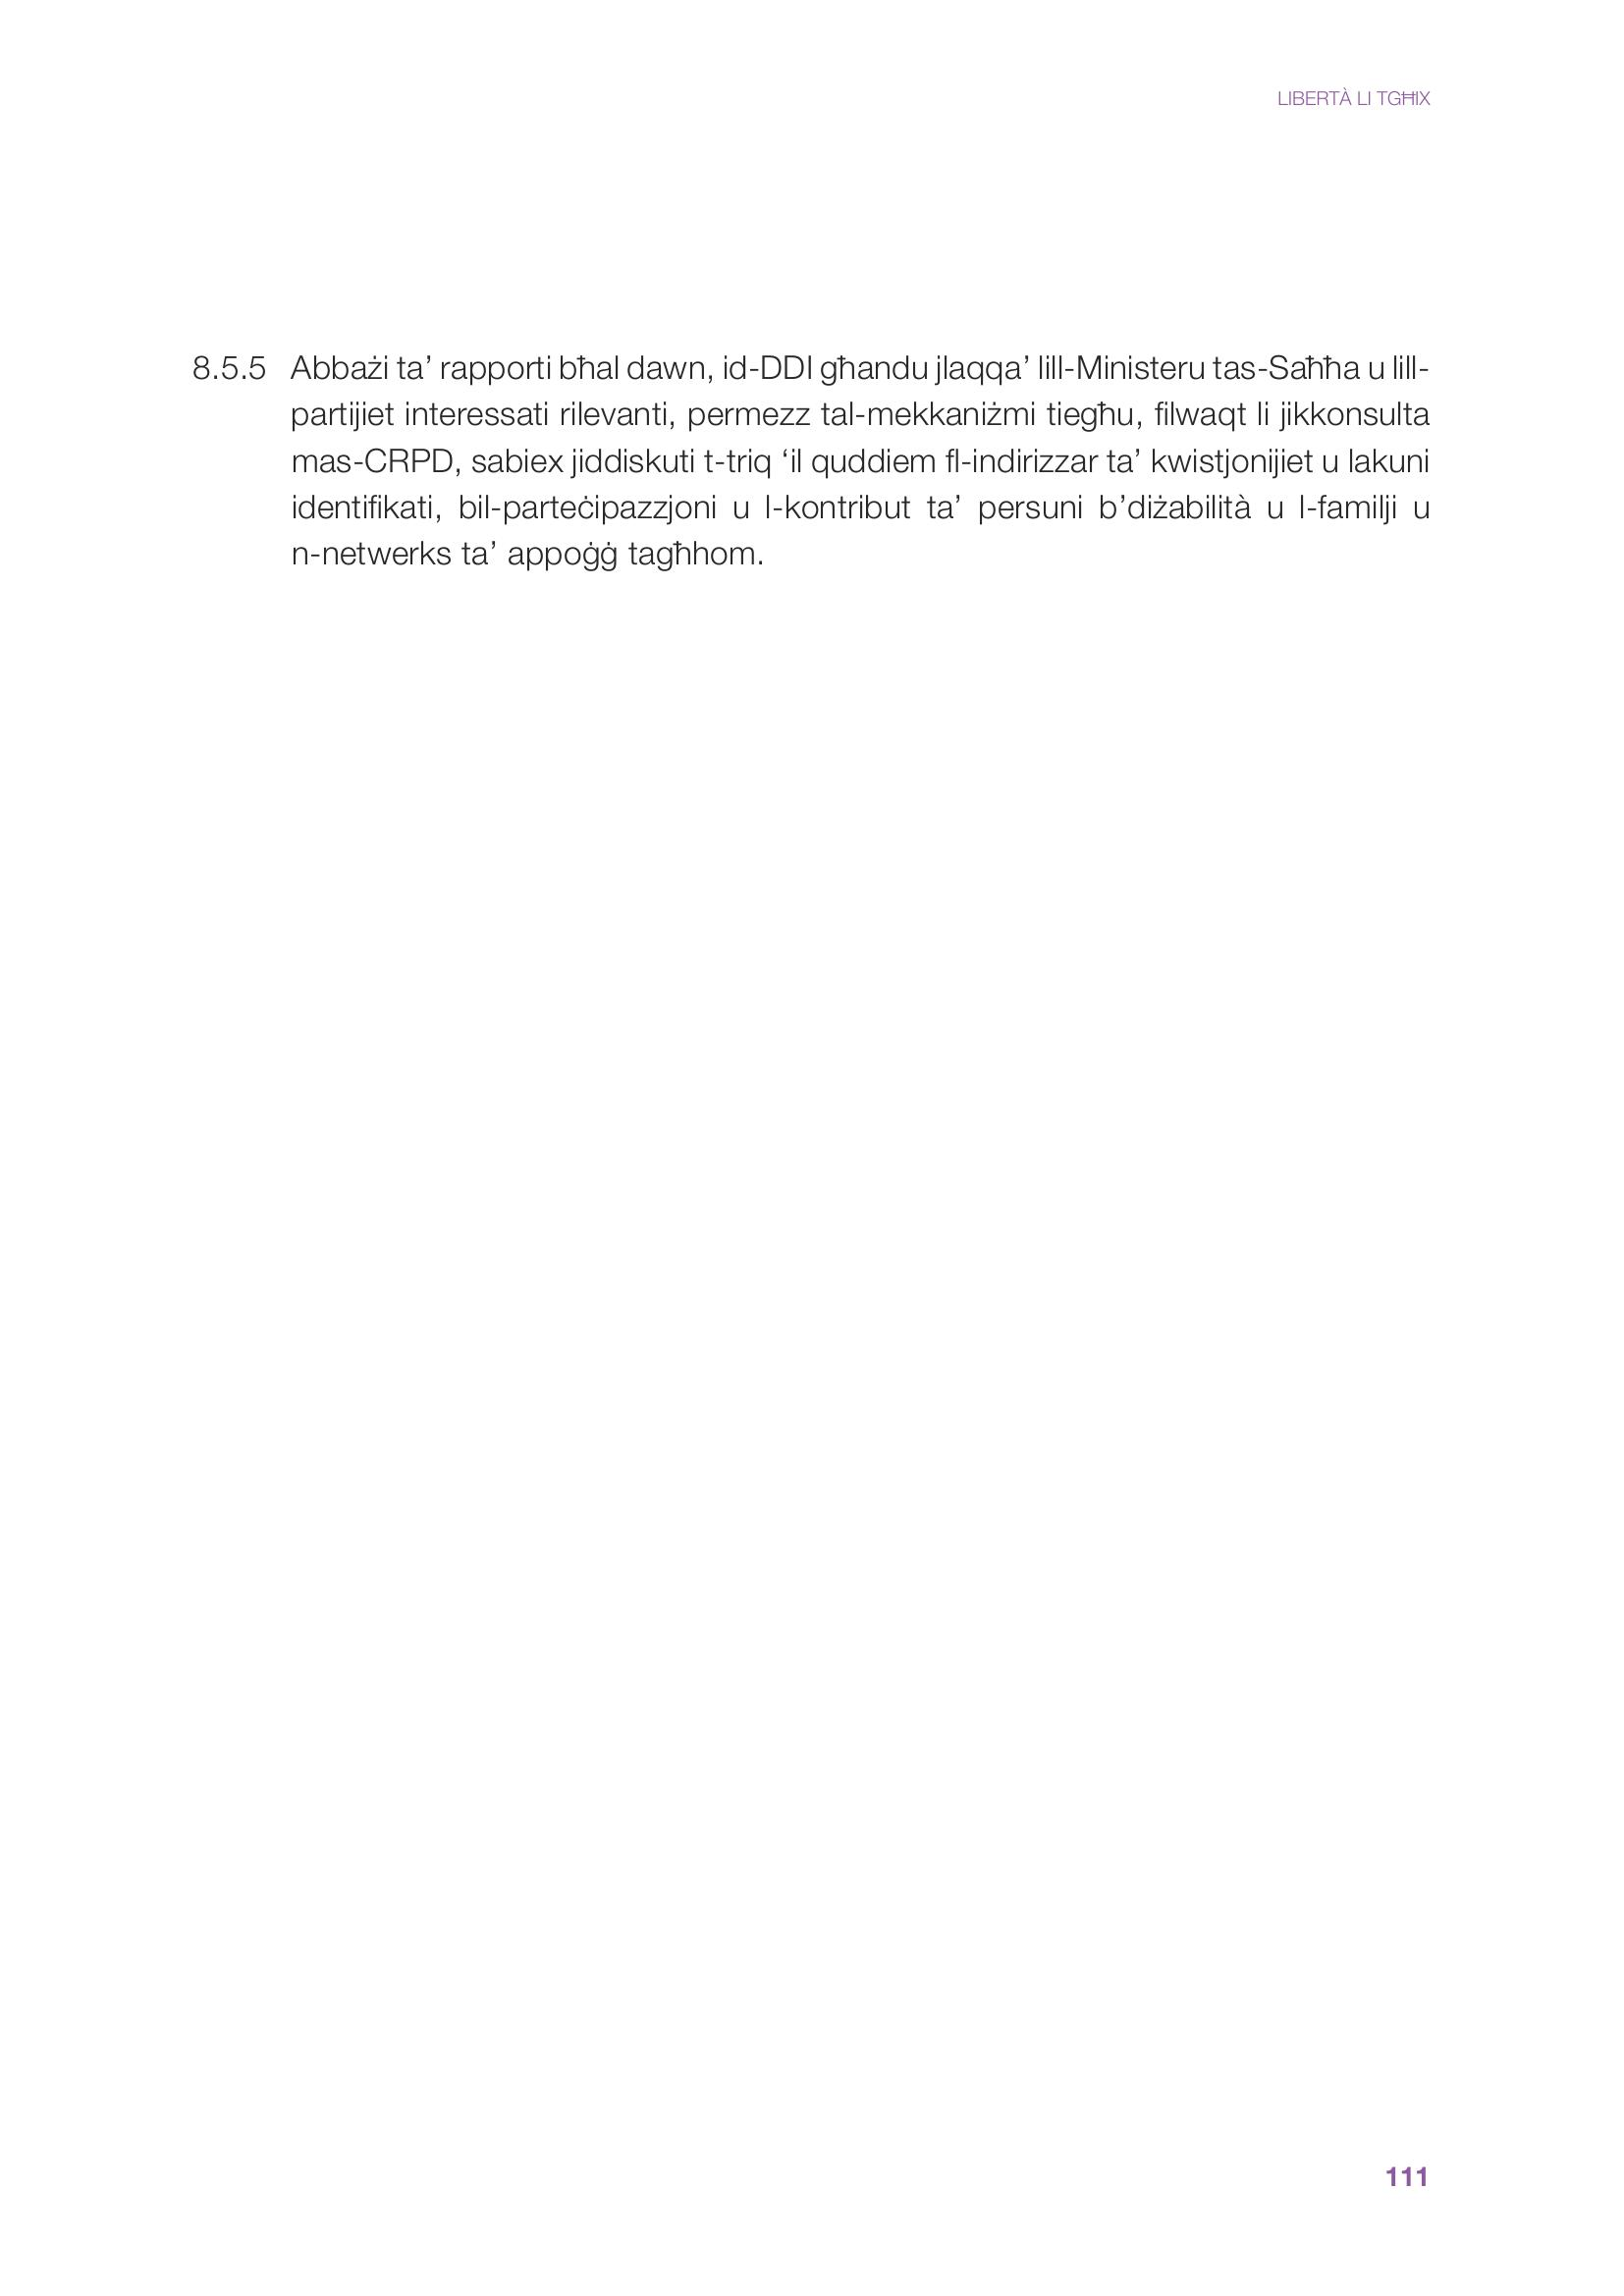text: (174, 316, 1483, 643)
